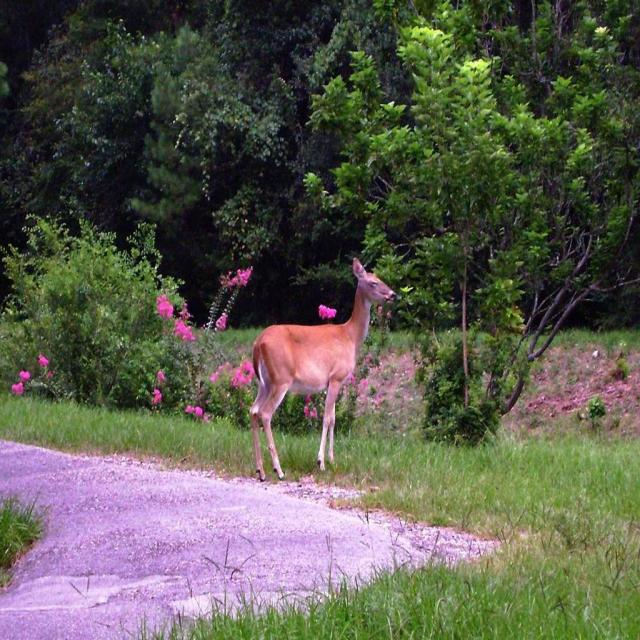Deer: (250, 256, 398, 484)
